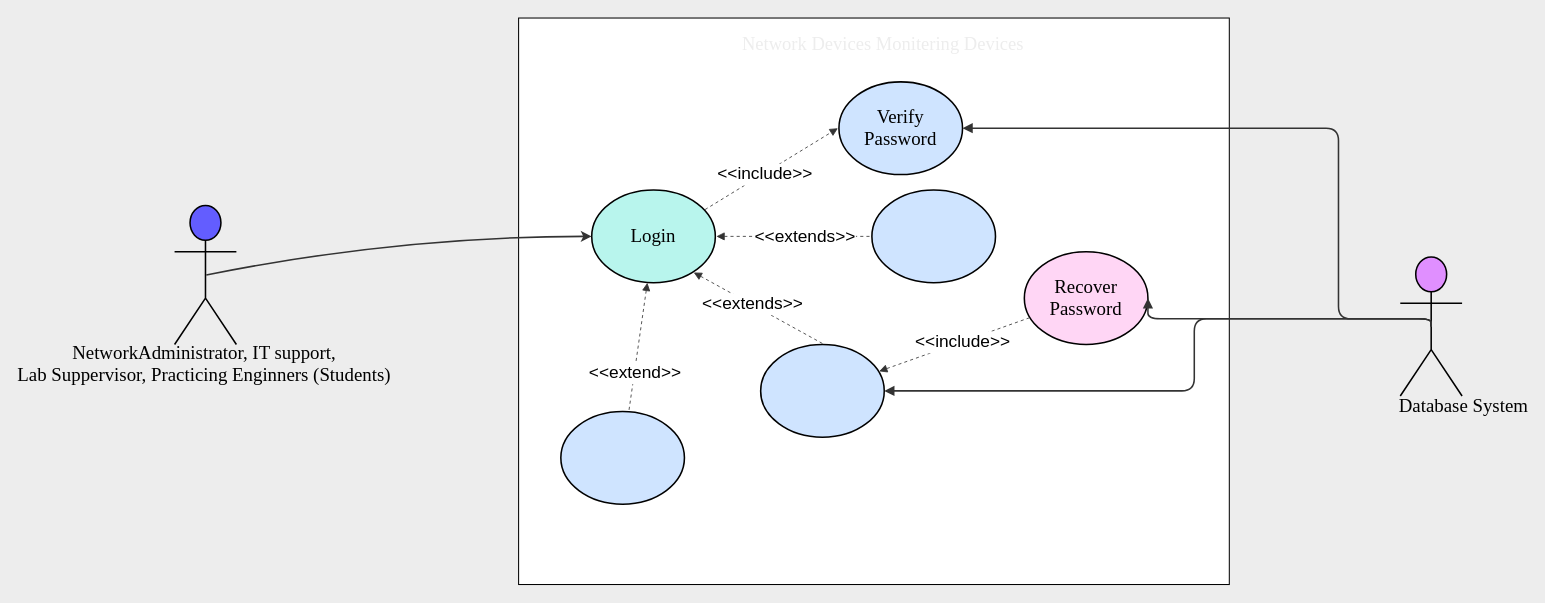
Image size: 1545x603. Some labels were removed from this diagram. The shapes that lost their labels are listed below. From the top down, each one's centre as x and y in pixels, then its label:
At point (933, 236): "Dispaly Login Error".
At point (822, 390): "Forget Password".
At point (622, 457): "Access Help".
